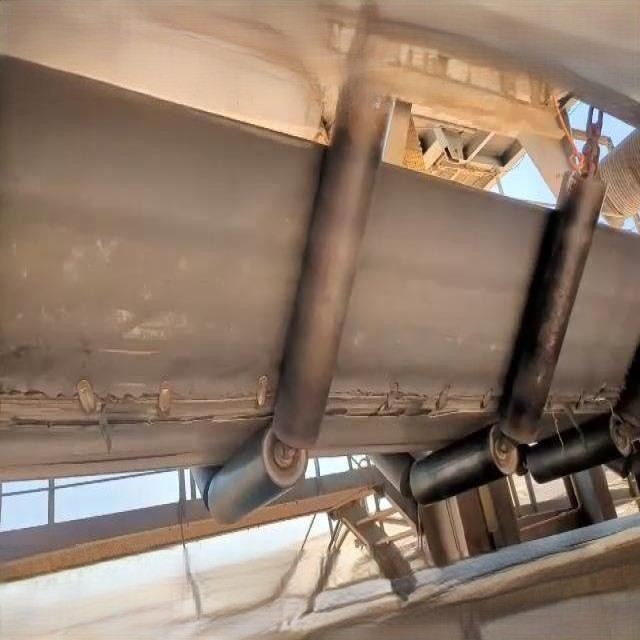Tear: (1, 348, 281, 452), (318, 370, 507, 422), (539, 380, 627, 420)
